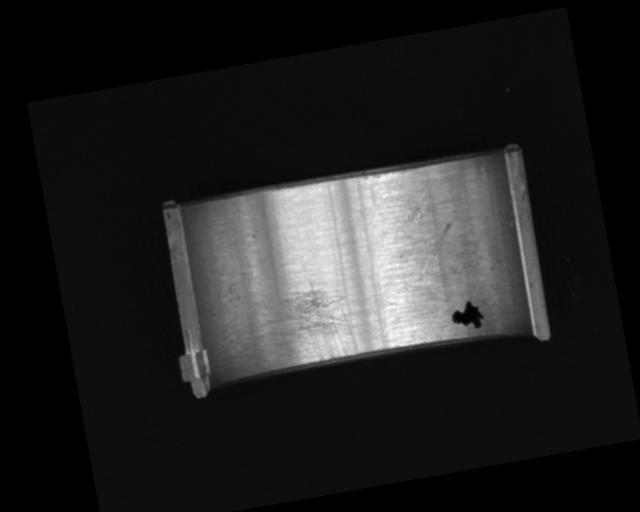blot: (448, 297, 487, 333)
bruise: (404, 197, 431, 224)
nick: (411, 222, 460, 281)
scratch: (228, 274, 361, 376)
